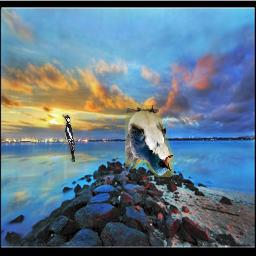Swallow: (126, 105, 175, 177)
Woodpecker: (63, 114, 76, 162)
